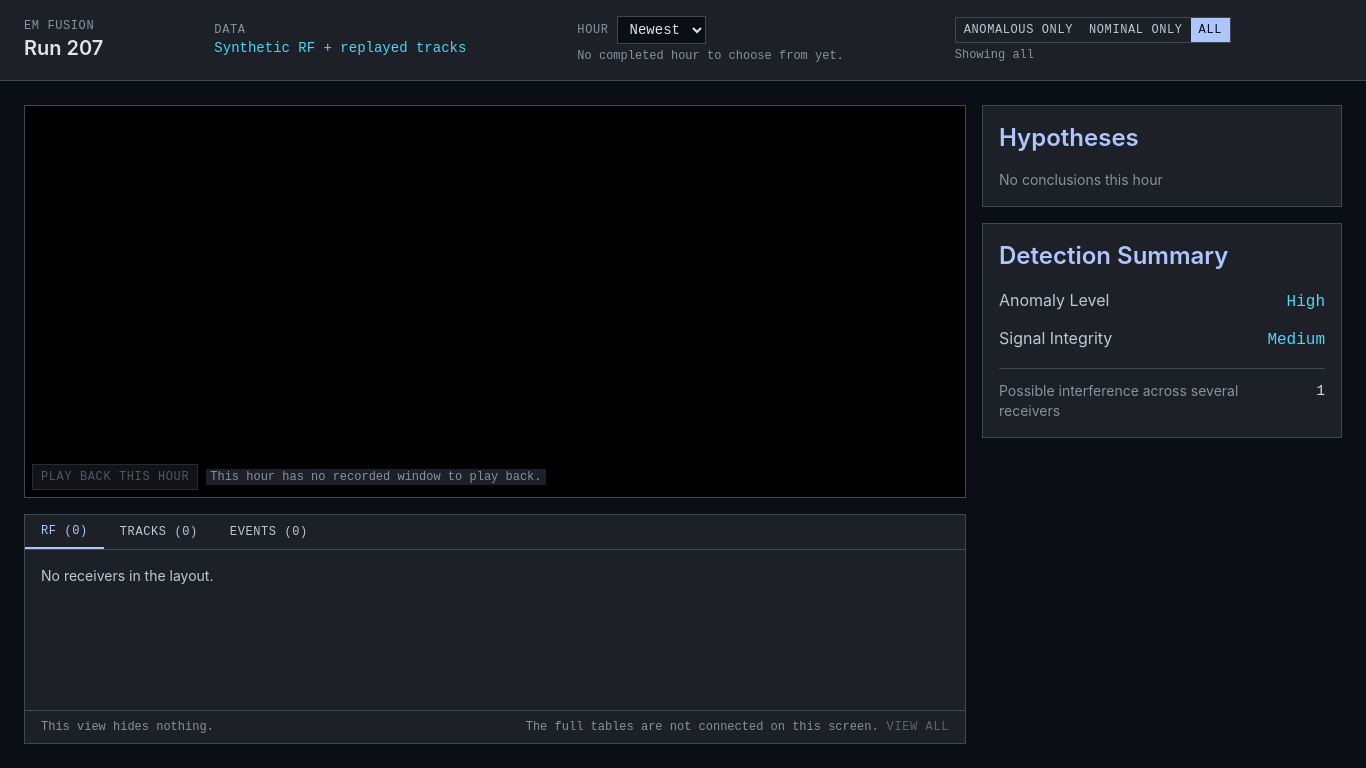
it: the timeline strip › says in words that nothing happened rather than rendering a bare strip
Step 1. Click the tab "Events (0)" → (269, 532), box [214,515,324,549]
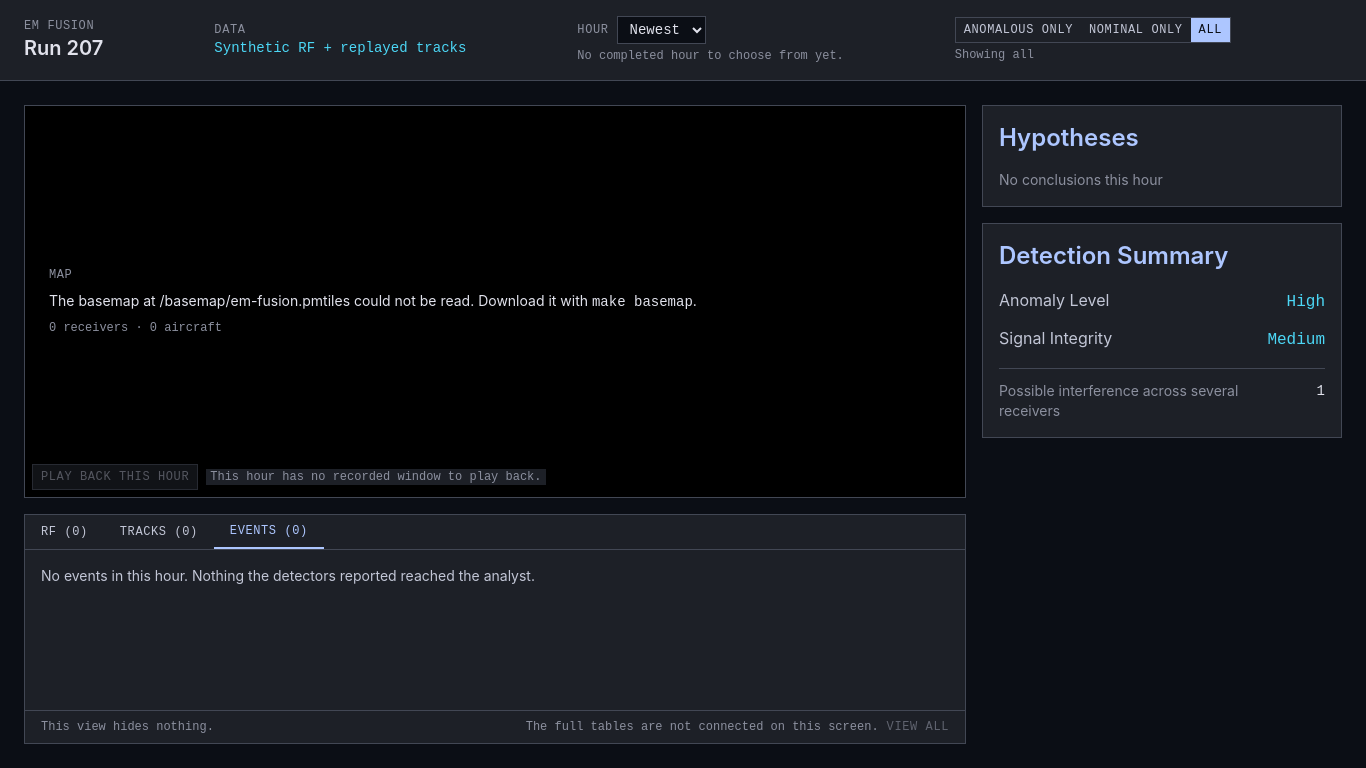
Result: the text "No events" is shown at [41,567,535,584]
